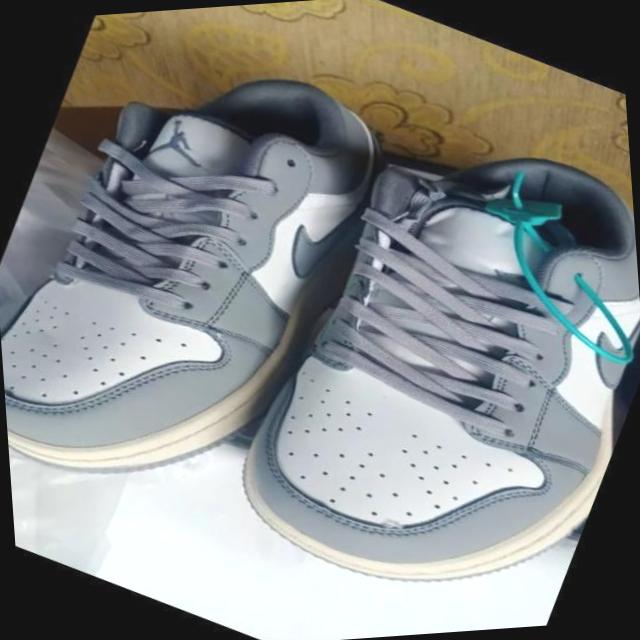nike_fake_jordan: (187, 71, 640, 640), (0, 0, 434, 559)
